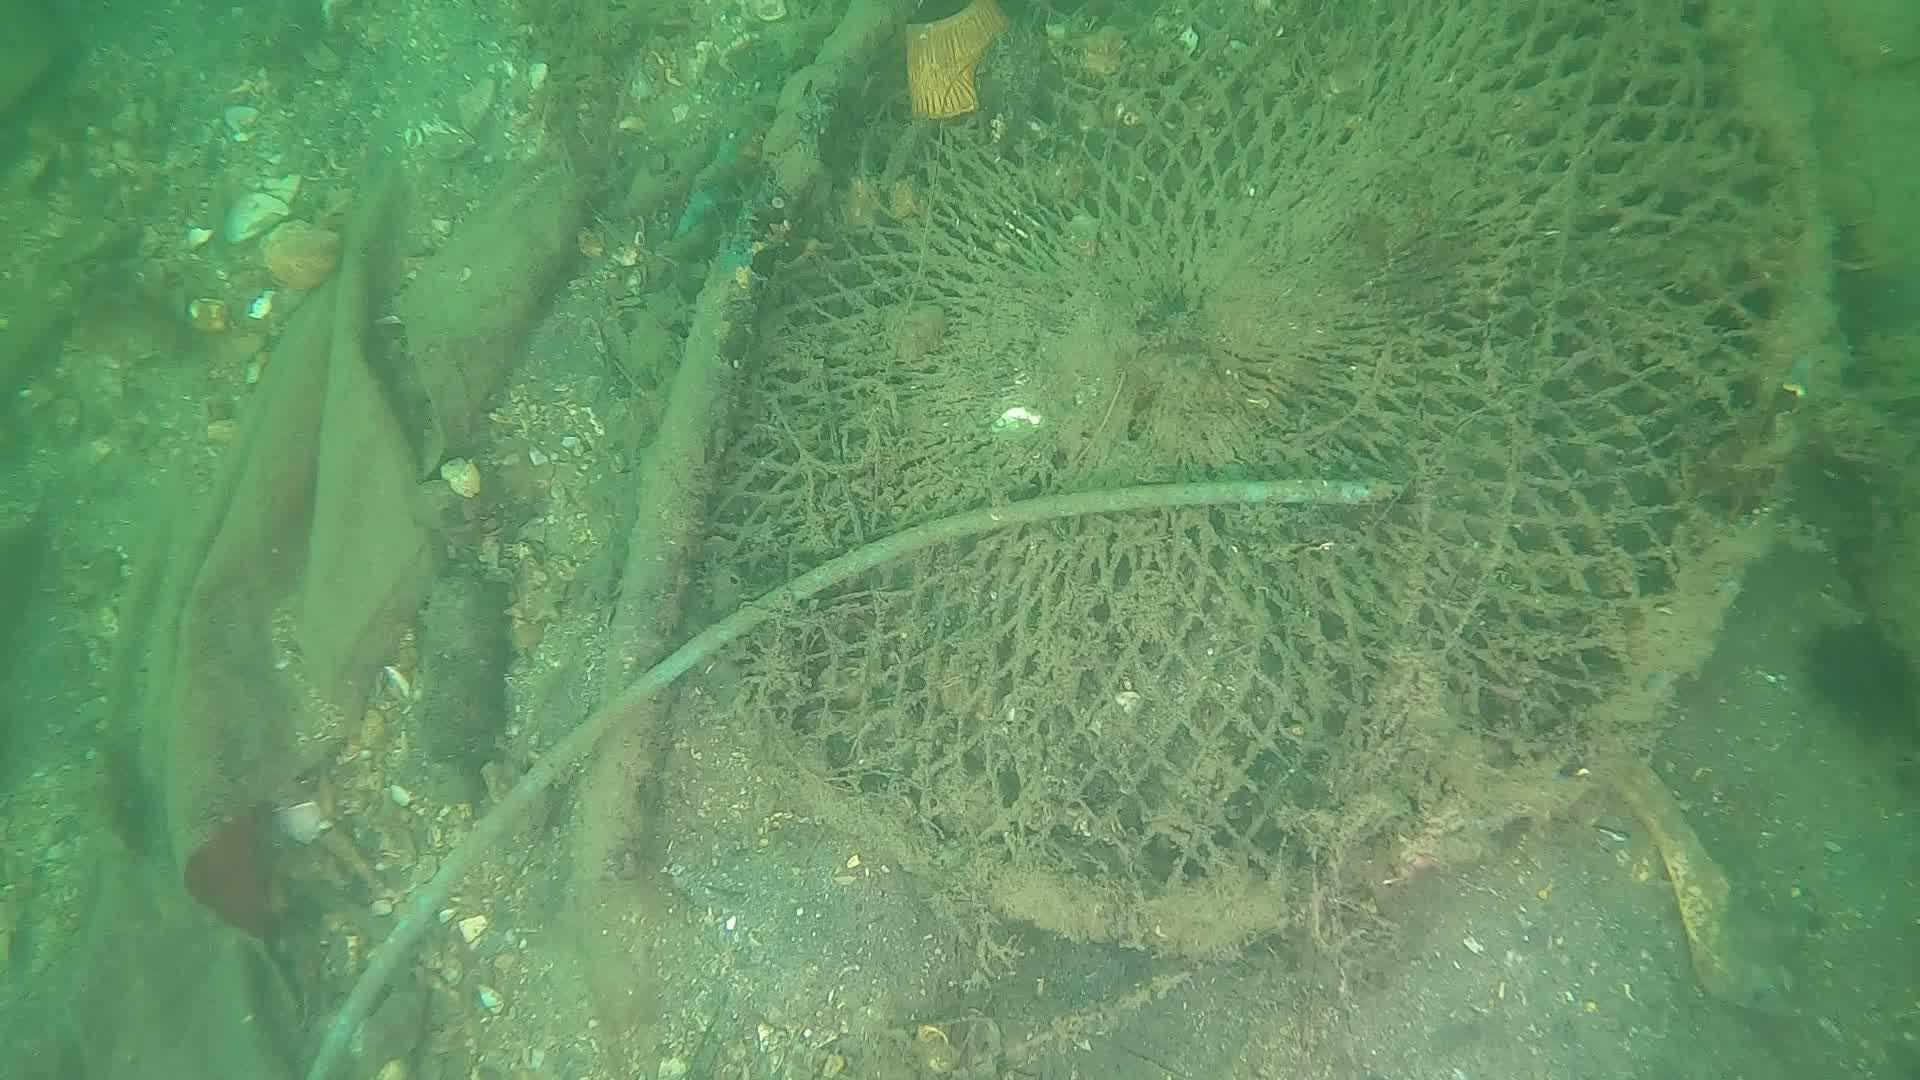circular fish trap: (711, 0, 1837, 951)
